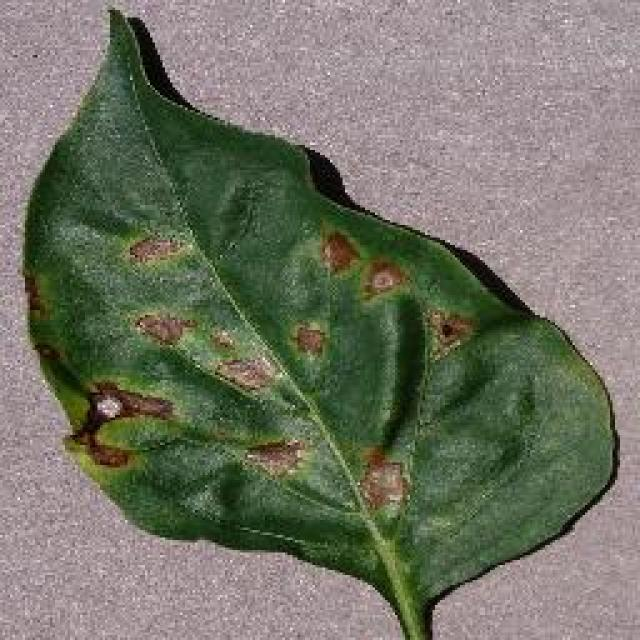Chilli_Bacterial_Spot: (15, 2, 623, 638), (62, 212, 488, 530), (65, 378, 175, 472), (83, 378, 175, 428), (240, 432, 310, 482), (355, 455, 410, 517), (210, 352, 280, 398), (130, 308, 195, 350), (425, 305, 477, 357), (122, 230, 188, 268), (315, 228, 360, 278), (358, 258, 408, 302), (285, 318, 330, 362), (85, 387, 125, 425)
